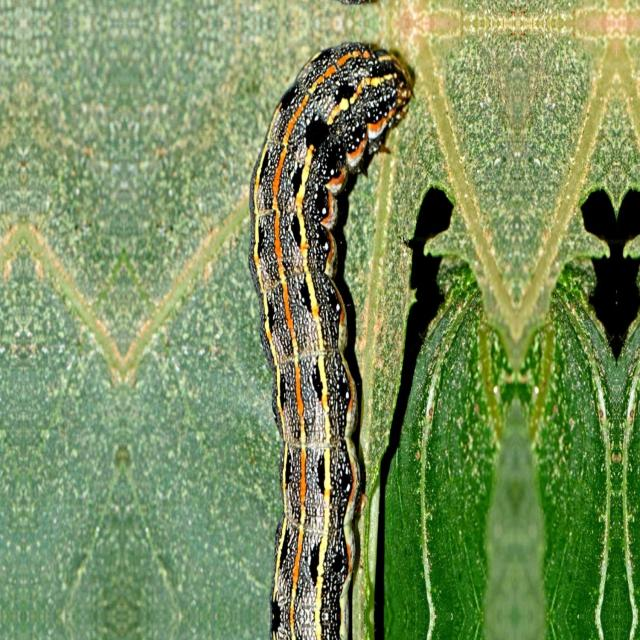Armyworm: (234, 16, 421, 640)
